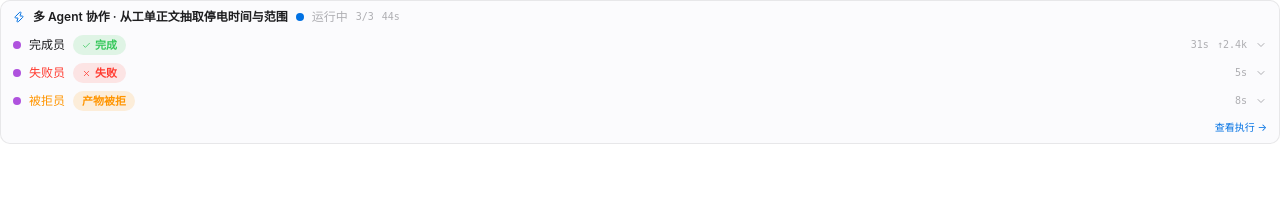
Scenario: ExecutionTaskCard（40 篇 §5.2 协作任务卡） › ② 终态徽标语言：失败红行 + rejected_artifact 警示橙（非成功态）；行展开明细
Expected: the text with test id "exec-task-progress" reads "3/3", top-left (356, 9), bottom-right (374, 25)
Expected: the text "完成" is shown, top-left (73, 35), bottom-right (126, 55)
Click the button with test id "subrun-row" showing "被拒员 产物被拒 8s" at coordinates (47, 100), box top-left (9, 87), bottom-right (1271, 115)
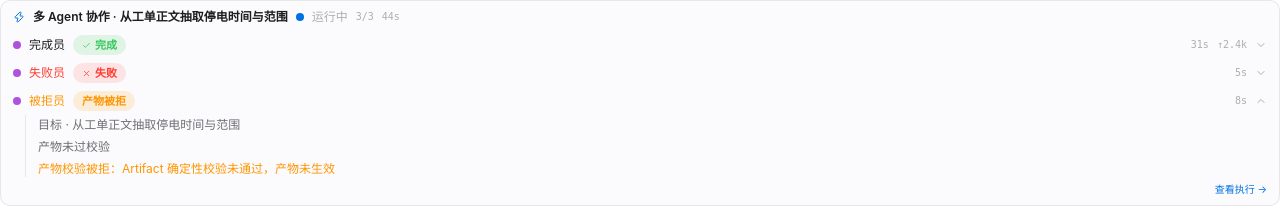
Expected: the element with test id "subrun-detail" shows "产物校验被拒", top-left (38, 161), bottom-right (335, 176)
Click the button with test id "subrun-row" showing "失败员 失败 5s" at coordinates (47, 72), box top-left (9, 59), bottom-right (1271, 87)
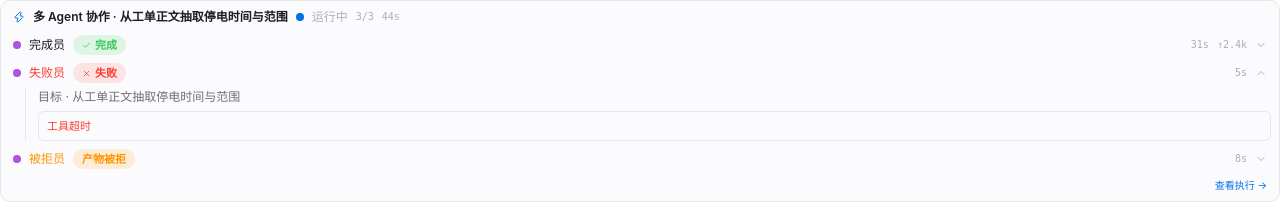
Expected: the text with test id "subrun-error" reads "工具超时", top-left (47, 119), bottom-right (91, 133)
Click the button with test id "subrun-row" showing "完成员 完成 31s ↑2.4k" at coordinates (47, 44), box top-left (9, 31), bottom-right (1271, 59)
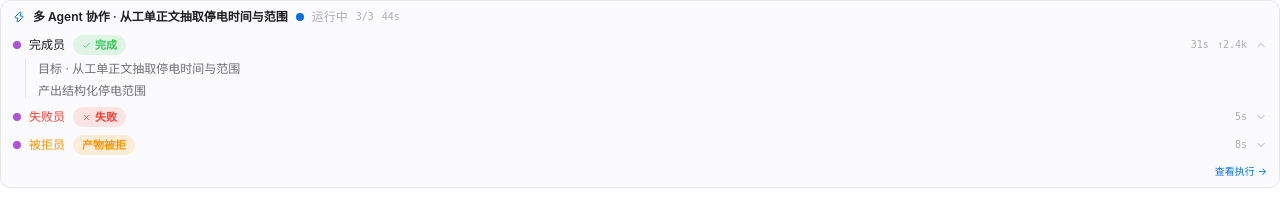
Expected: the element with test id "subrun-detail" shows "产出结构化停电范围", top-left (38, 83), bottom-right (146, 98)
